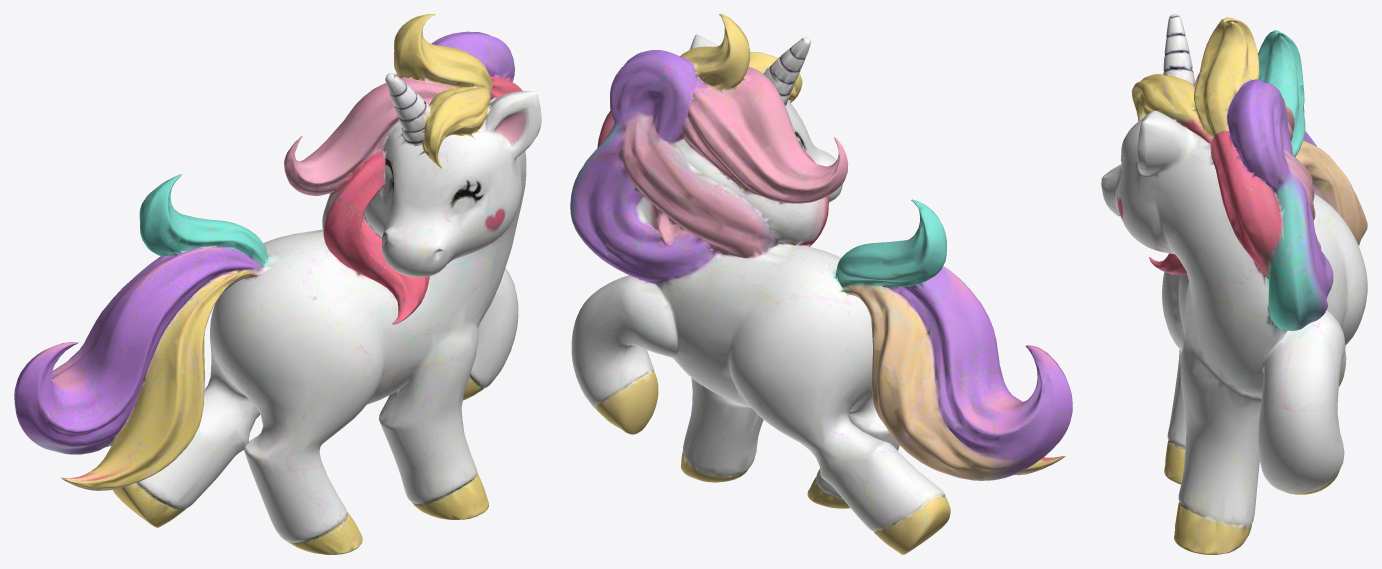
The picture shows the model from 3 angles, left to right: view 1: azimuth 30°, elevation 25°; view 2: azimuth 150°, elevation 25°; view 3: azimuth 270°, elevation 25°; orthographic projection. The views are drawn at different scales.
Size of the model in its own units: 1.9 by 1.72 by 0.8104.
1 material, 1 textured.
